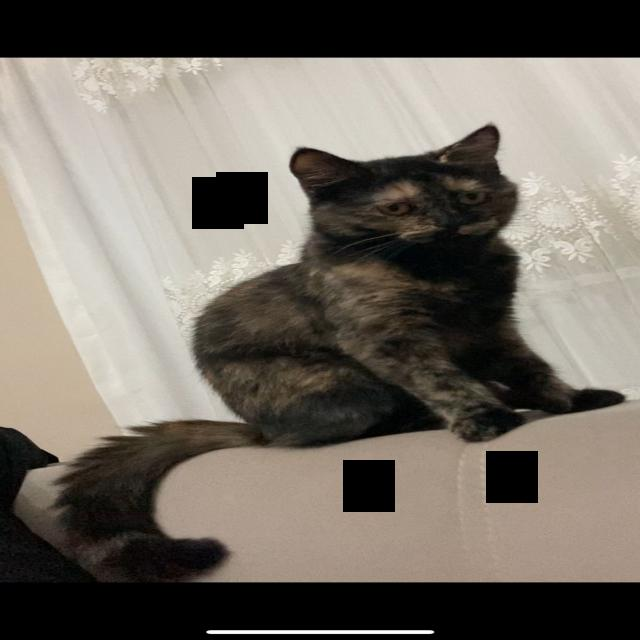authorized: (51, 121, 625, 582)
